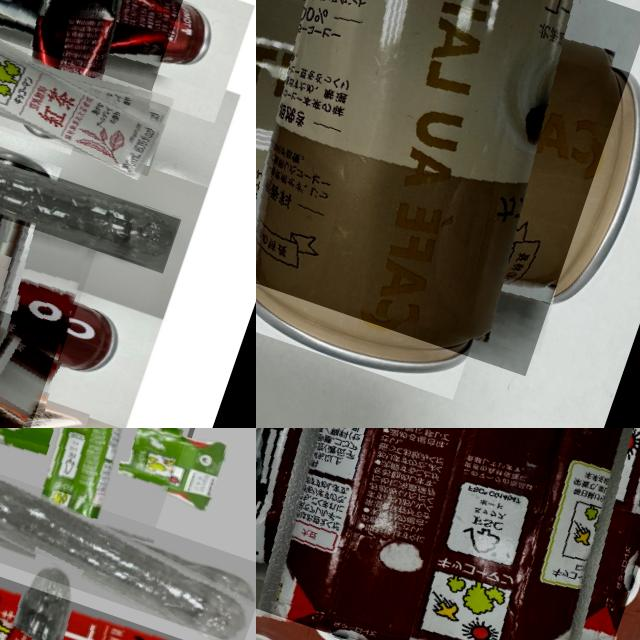Aluminium Foil: (256, 428, 640, 640), (0, 520, 254, 640), (0, 14, 172, 176), (0, 428, 206, 550)
Can: (256, 0, 640, 375), (0, 0, 200, 127), (0, 172, 100, 424)
Transparent Plastic Bottle: (0, 444, 256, 640), (0, 109, 179, 273)
